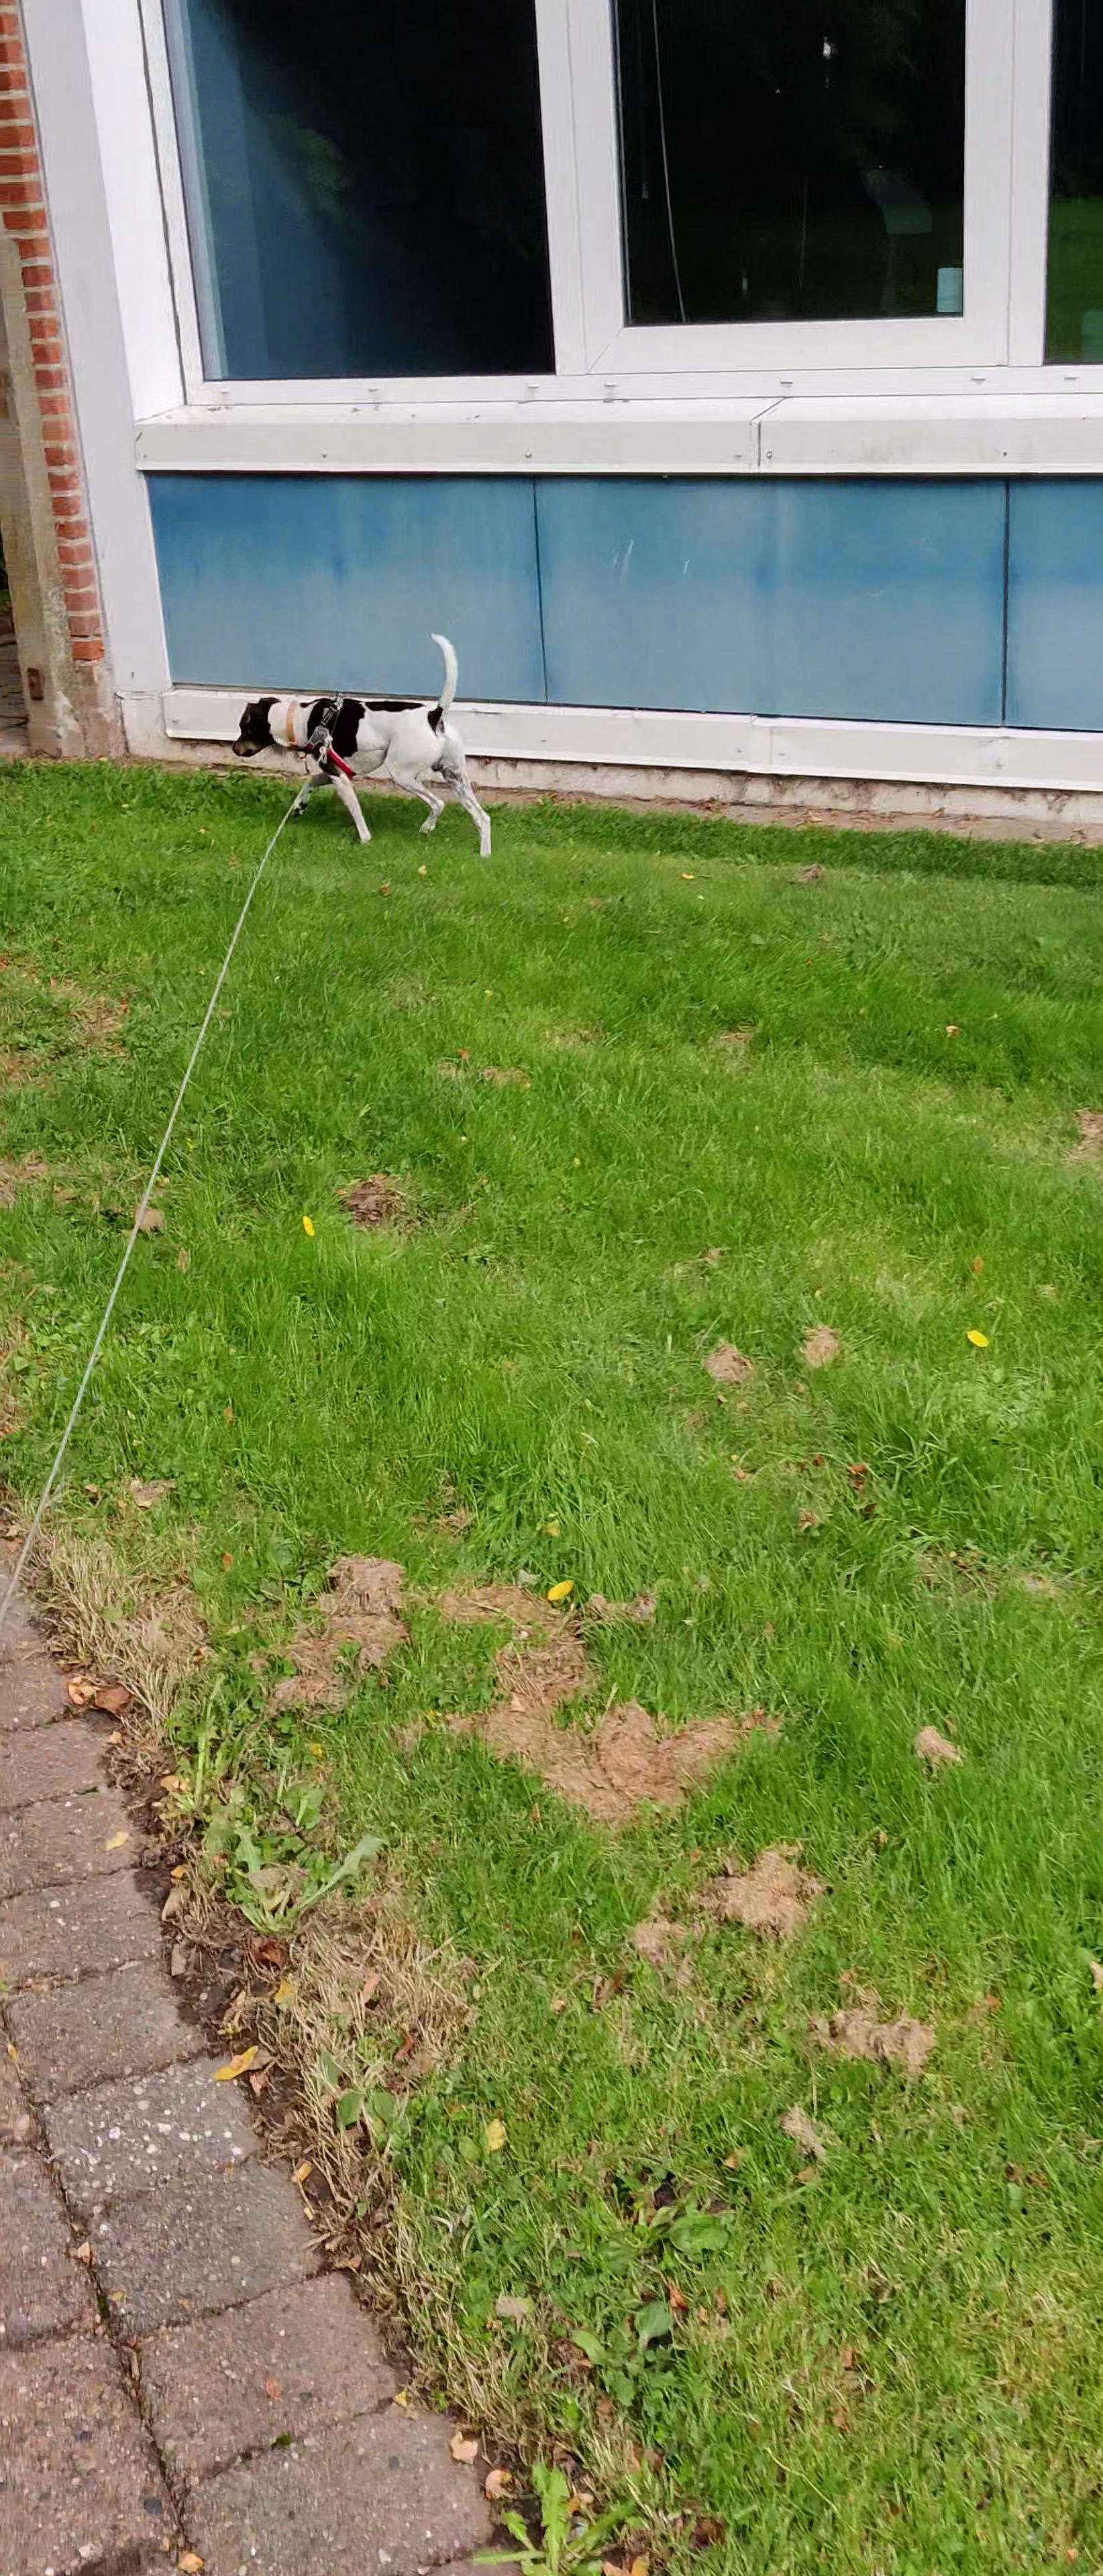Dog: (224, 628, 496, 856)
